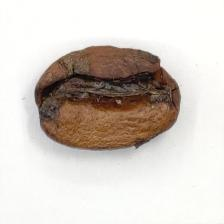NG: (35, 62, 174, 124)
